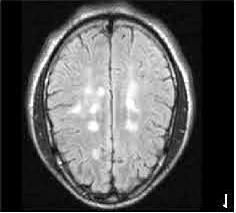Normal_Brain: (1, 1, 236, 213)
